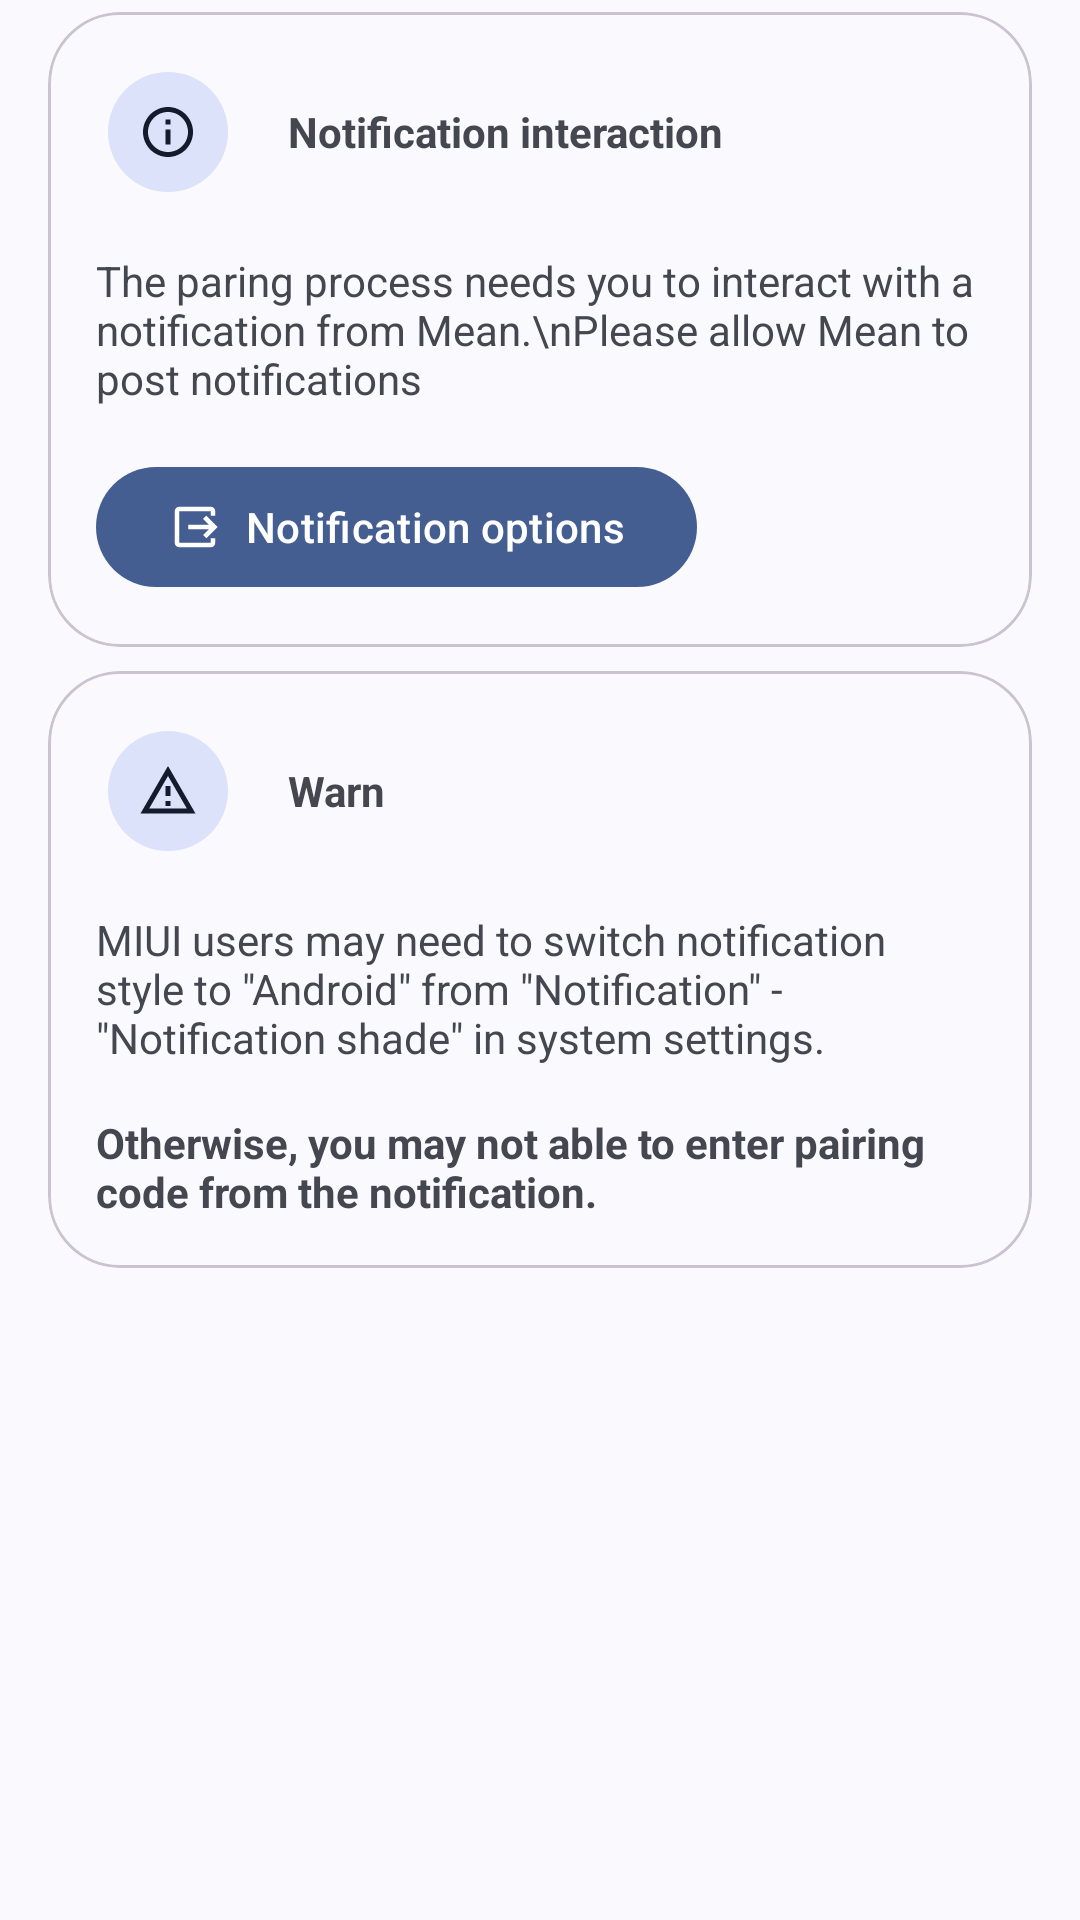

Point at icon controls on the screen. Image size 1080 × 1920, points as point (x, y).
info: point (168, 132)
